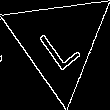L_NW: (34, 12, 84, 71)
